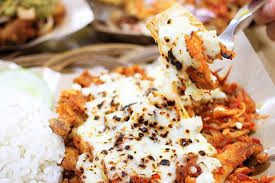ayam_geprek: (72, 34, 268, 178)
